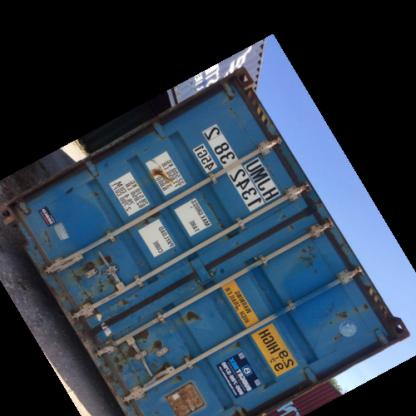Damage: (98, 328, 176, 378), (318, 296, 376, 344), (64, 246, 119, 278), (296, 226, 324, 274), (142, 156, 180, 187), (114, 290, 146, 314), (180, 304, 216, 324)
